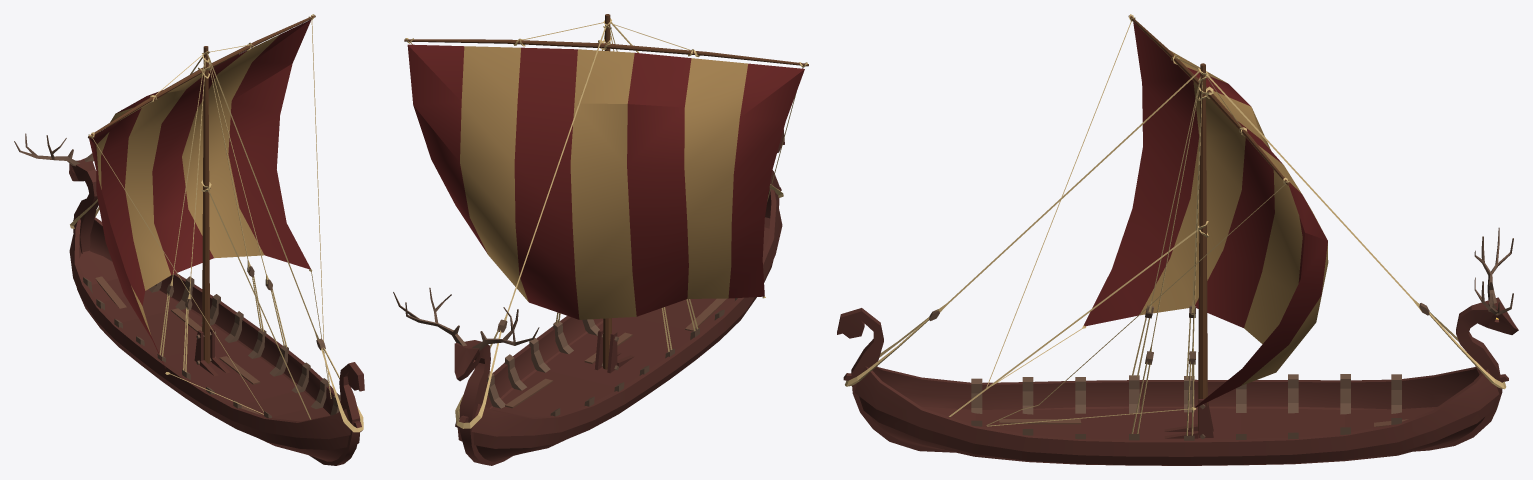
File: viking_longship.glb
3 views of the same model, side by side, from view 1: azimuth 30°, elevation 25°; view 2: azimuth 150°, elevation 25°; view 3: azimuth 270°, elevation 25° (orthographic). The views are drawn at different scales.
Visible parts, largest first — view 1: Keel.002; view 2: Keel.002; view 3: Keel.002.
Part boxes in pixels (x1,y1,x2,y2): Keel.002: (14, 14, 364, 465); Keel.002: (393, 14, 808, 465); Keel.002: (837, 14, 1518, 465).
Bounding box in the file's own units: 1.38 × 1.49 × 2.37.
Materials: 1 (1 with a texture image).
